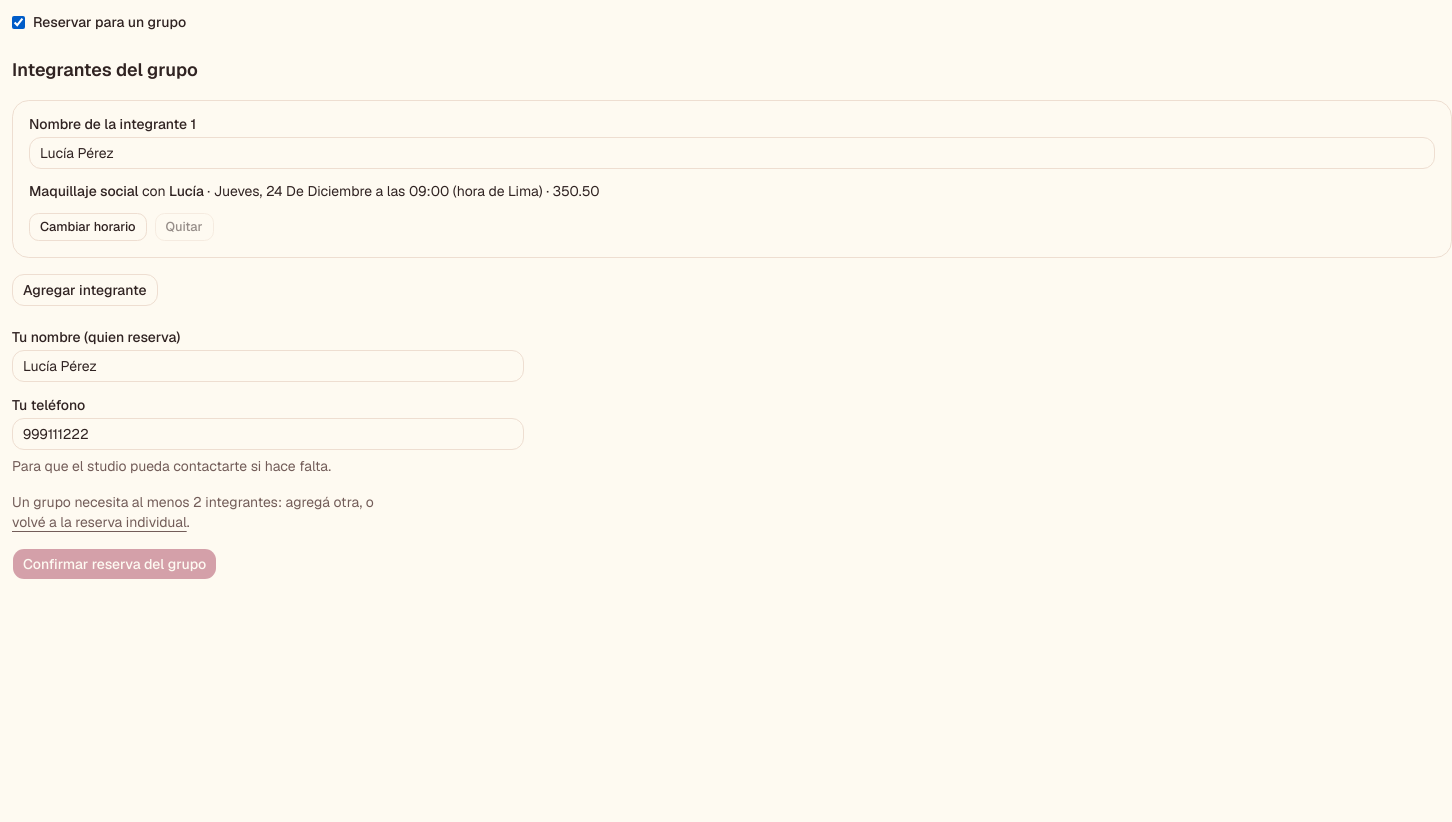
Test: armar el grupo › con una sola integrante no se puede confirmar y se ofrece volver a la individual
Check: the button "Confirmar reserva del grupo" is disabled, box [12,548,217,580]
Check: the text "necesita al menos 2 integrantes" is shown, box [12,493,374,532]
What coordinates should you click on to do the following:
click the button "volvé a la reserva individual"
I would click on:
 (99, 522)
Its box is [12,512,187,532].
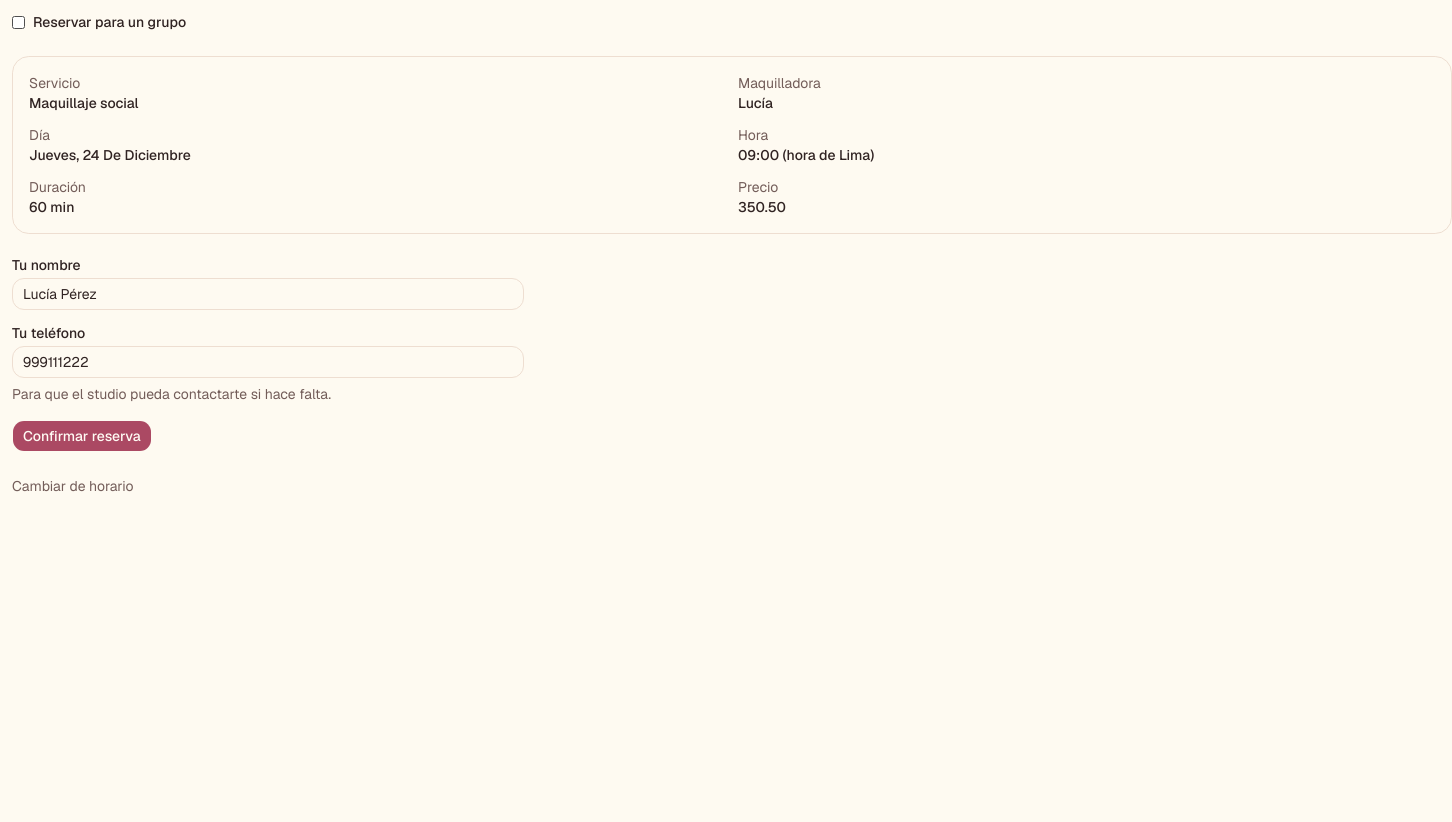
Check: the button "Confirmar reserva" is shown, box [12,420,152,452]
Check: the heading "Integrantes del grupo" is gone
